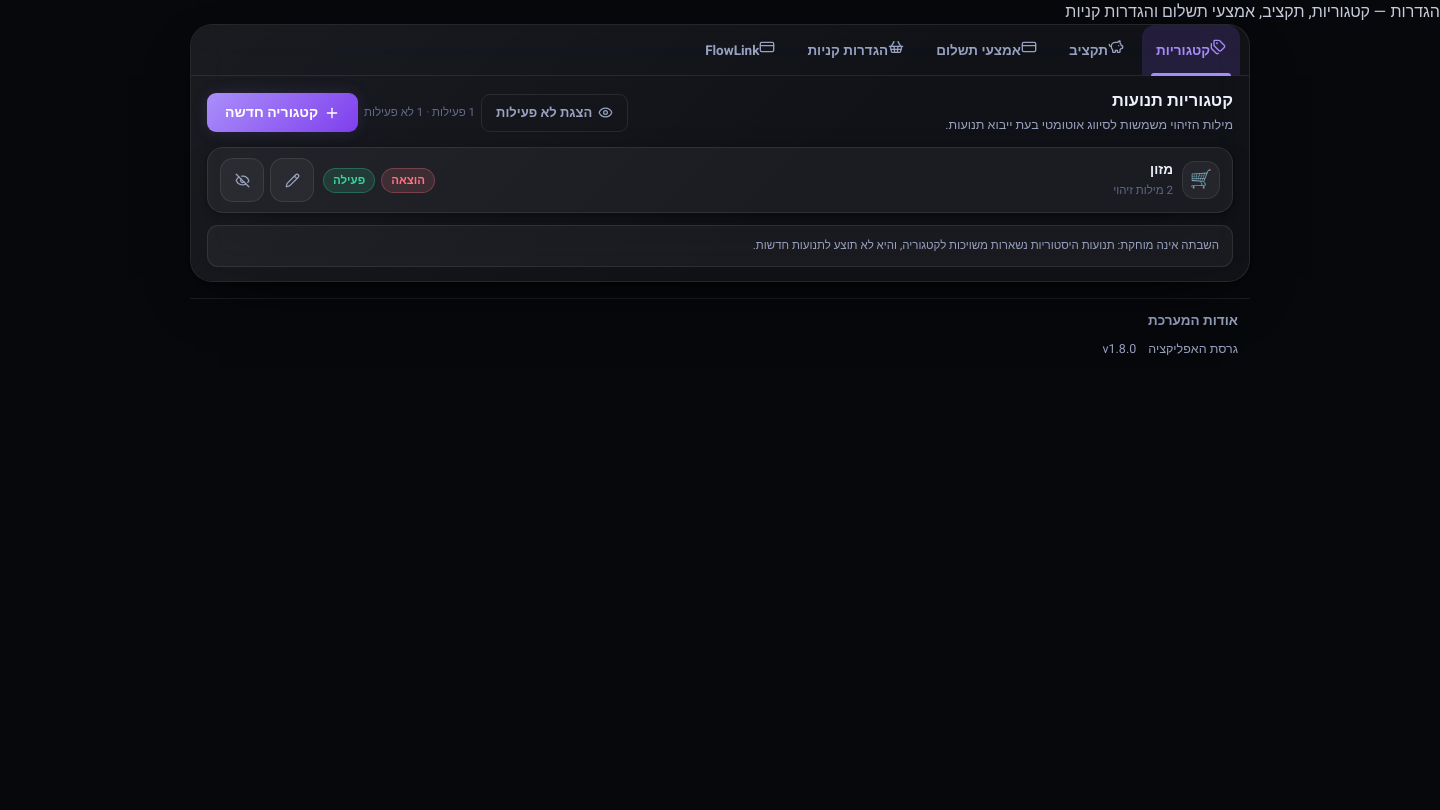
Settings navigation and categories › keeps edit values and dialog open when the category type change conflicts
Expected: the heading "מזון" is shown, top-left (1150, 160), bottom-right (1173, 180)
Step 1. Click the button named "עריכת הקטגוריה מזון" → [292, 180], box top-left (270, 158), bottom-right (314, 202)
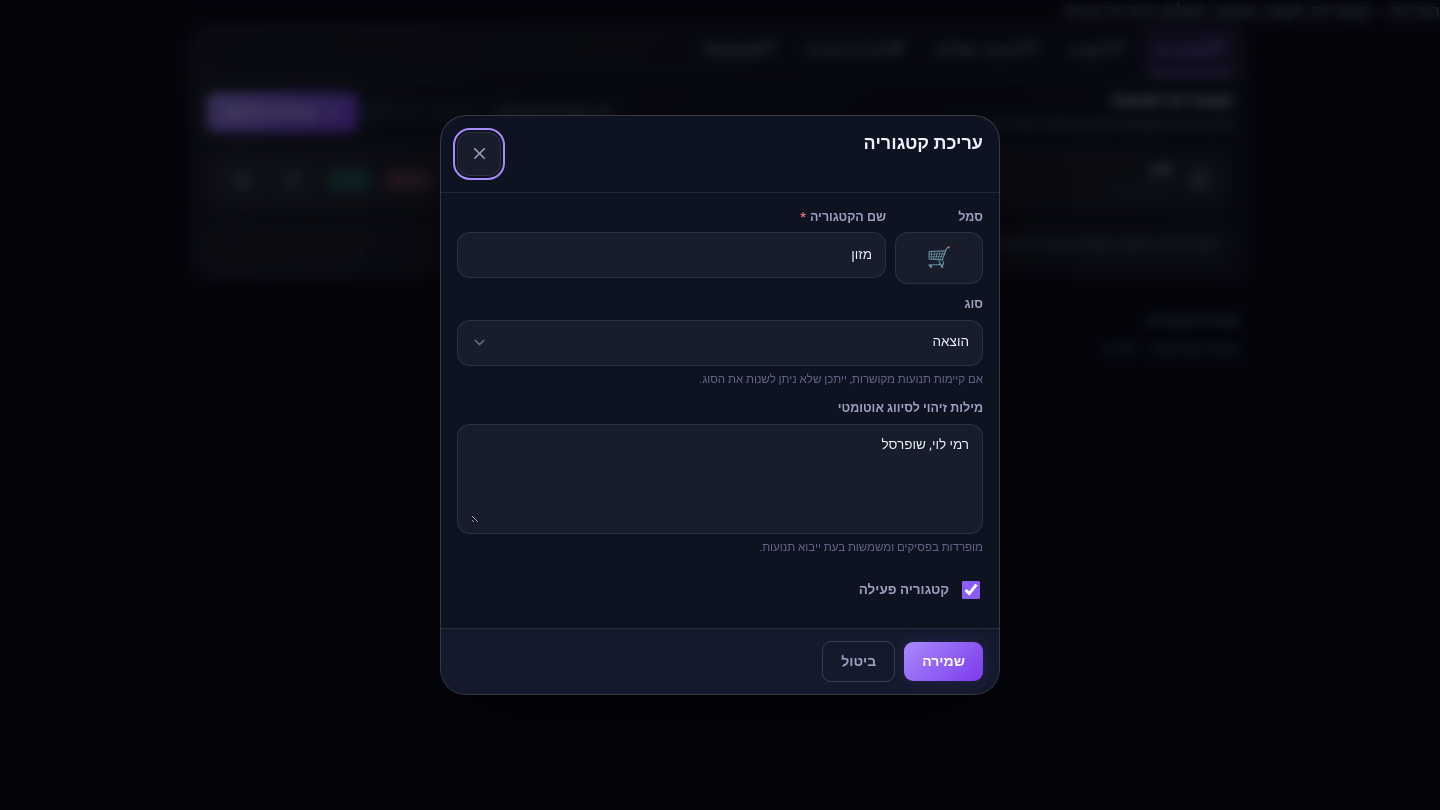
Step 2. Select "הכנסה" in the dropdown labelled "סוג" → [733, 343], box top-left (497, 332), bottom-right (969, 353)
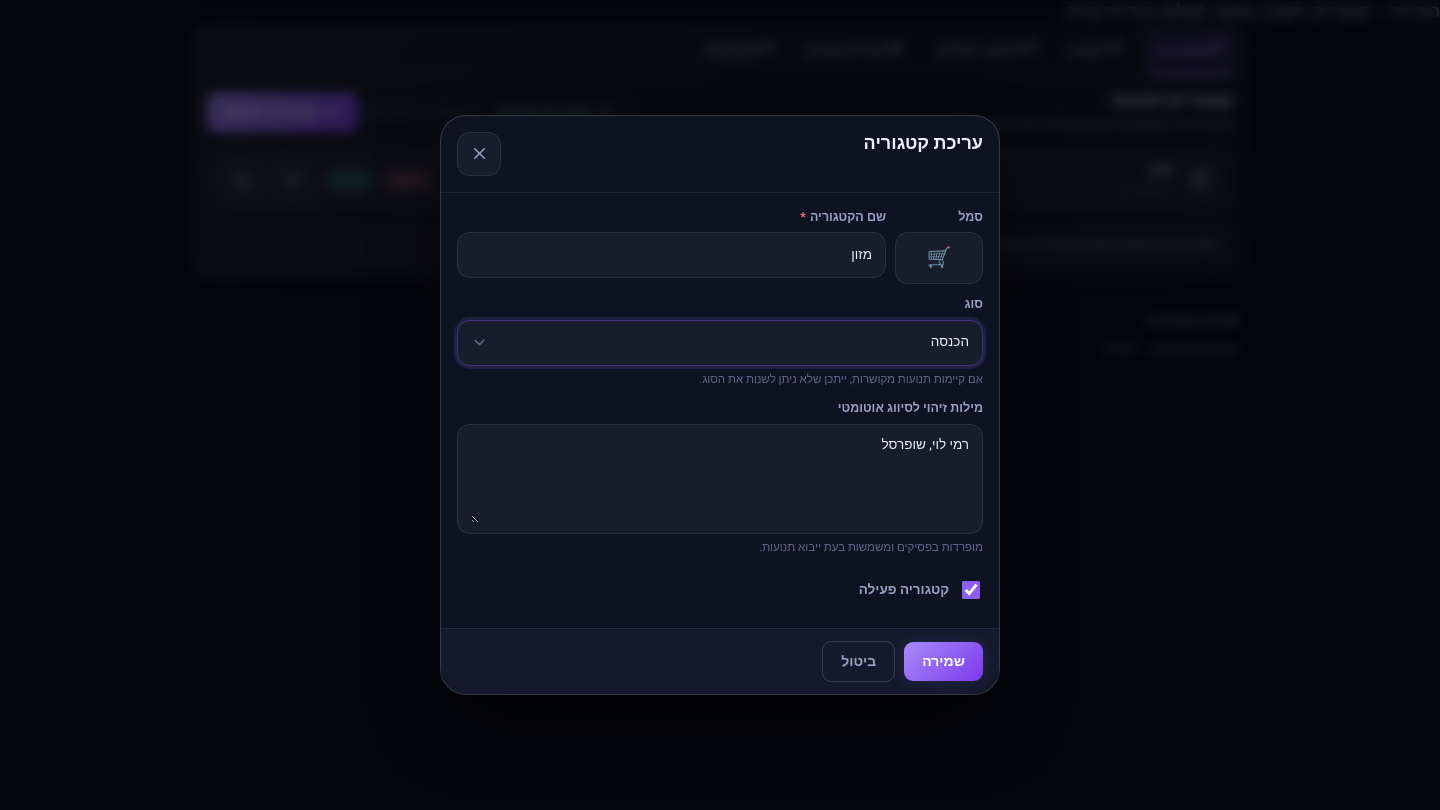
Step 3. Click the button "שמירה" → [944, 662], box top-left (904, 642), bottom-right (983, 681)
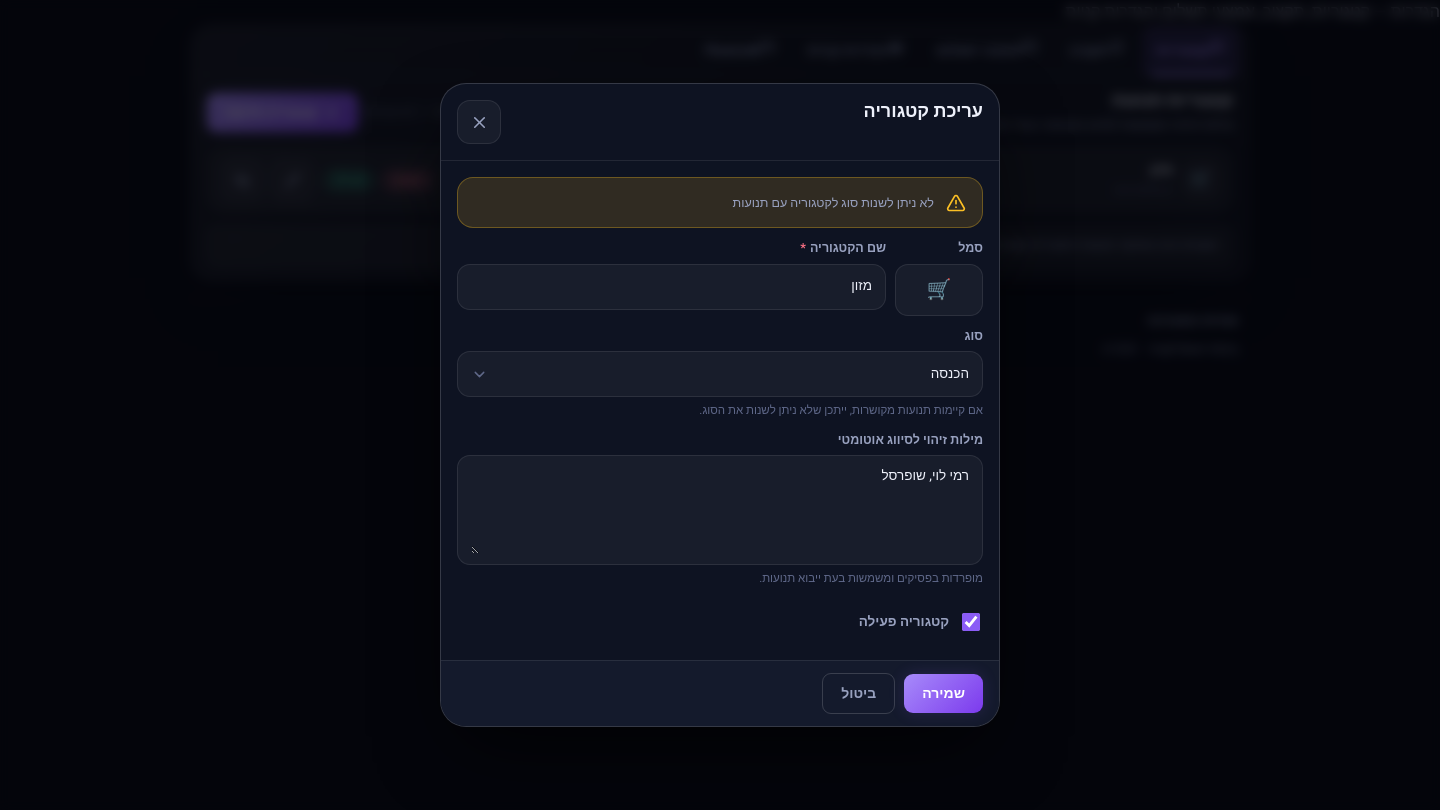
Expected: the field labelled "שם הקטגוריה *" holds "מזון", top-left (471, 276), bottom-right (872, 297)
Expected: the text "לא ניתן לשנות סוג לקטגוריה עם תנועות" is shown, top-left (732, 194), bottom-right (934, 212)
